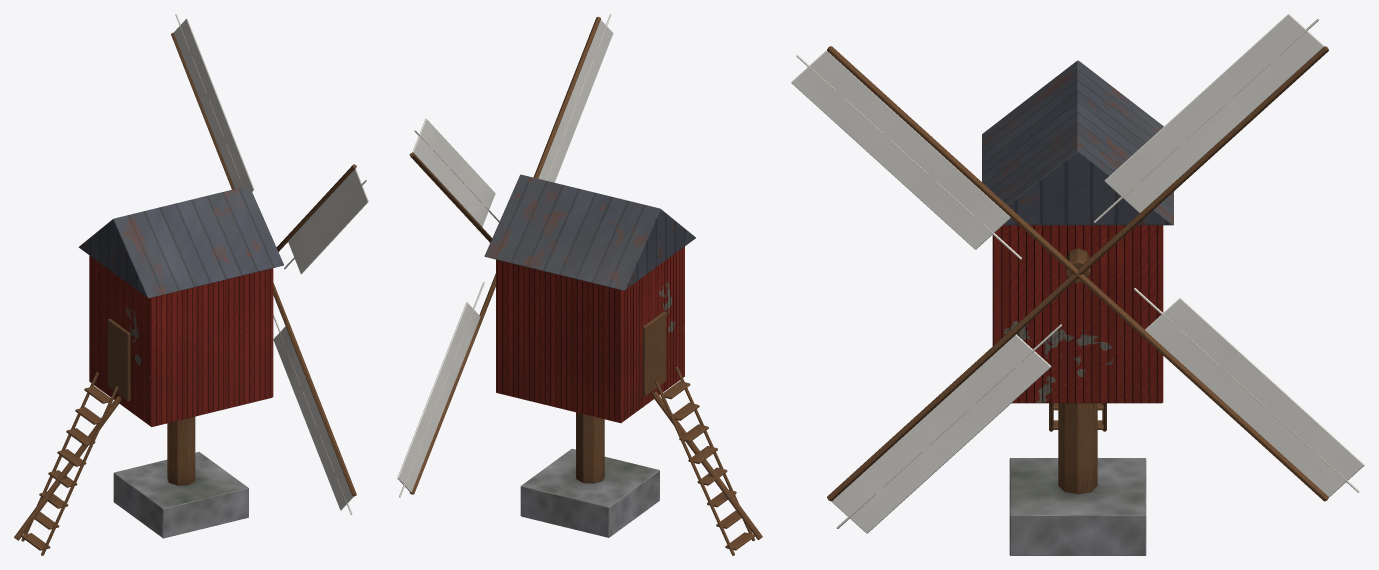
File: vaderkvarn_tex.glb
3 renders of one model, left to right at view 1: azimuth 30°, elevation 25°; view 2: azimuth 150°, elevation 25°; view 3: azimuth 270°, elevation 25°, orthographic. The views are drawn at different scales.
Visible parts, largest first — view 1: vaderkvarn; view 2: vaderkvarn; view 3: vaderkvarn.
Part boxes in pixels (left/top/right/bottom): vaderkvarn: left=14, top=14, right=368, bottom=555; vaderkvarn: left=397, top=14, right=762, bottom=555; vaderkvarn: left=791, top=14, right=1364, bottom=555.
Size of the model in its own units: 7 by 11.11 by 10.09.
Materials: 6 (6 with a texture image).
